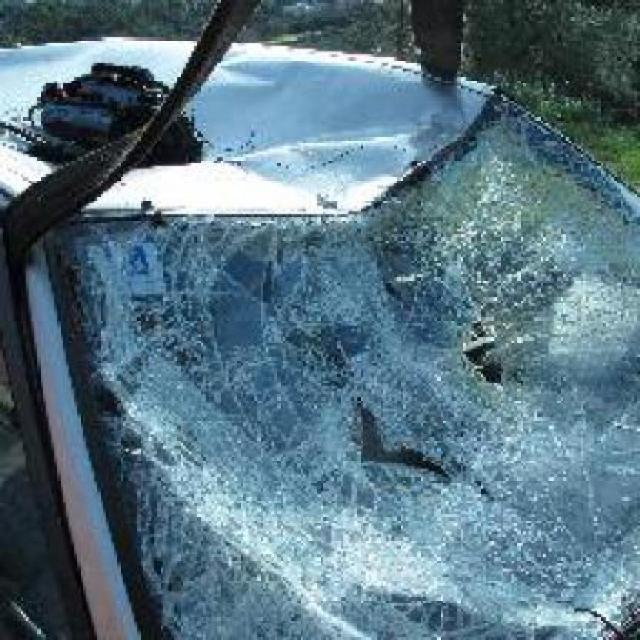damaged-windscreen: (32, 97, 638, 637)
